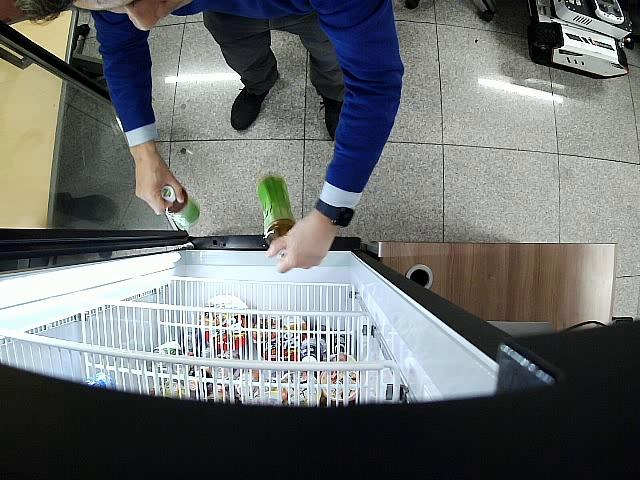00_hand: (265, 210, 337, 274), (130, 150, 183, 216)
19_17cha: (258, 174, 294, 261), (161, 185, 200, 229)
